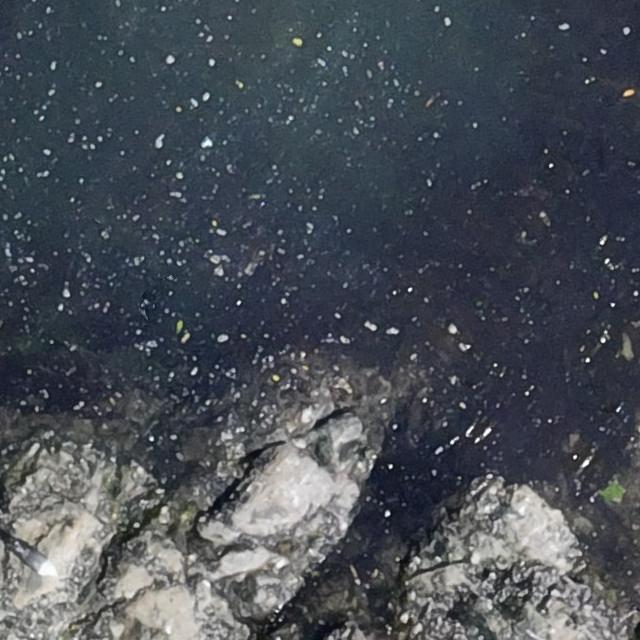umineko: (15, 541, 55, 577)
